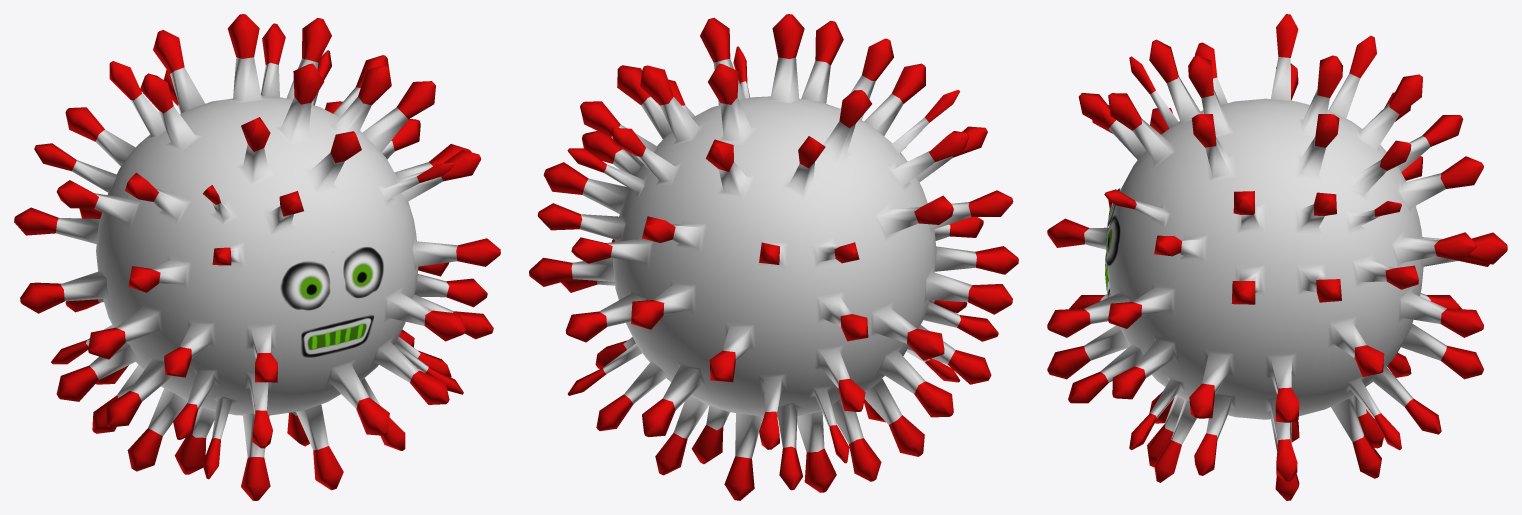
File: cells.glb
3 renders of one model, left to right at view 1: azimuth 30°, elevation 25°; view 2: azimuth 150°, elevation 25°; view 3: azimuth 270°, elevation 25°, orthographic.
Parts seen in each view (by area): view 1: Virus; view 2: Virus; view 3: Virus.
Boxes of the visible parts, x1,y1,x2,y2 form: Virus: (14, 14, 500, 500); Virus: (529, 14, 1018, 500); Virus: (1047, 14, 1507, 500).
Size of the model in its own units: 6.35 by 6.35 by 6.23.
Materials: 4 (1 with a texture image).
